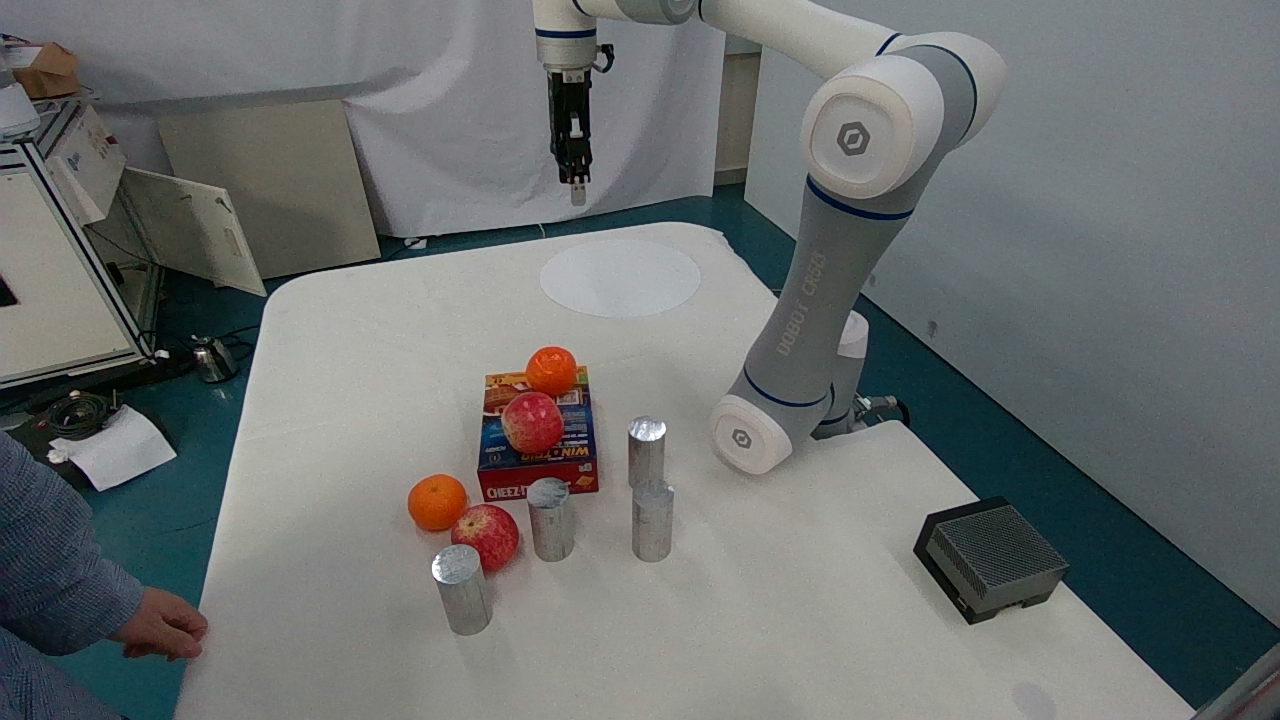apple: (498, 380, 570, 462), (440, 508, 530, 568)
metal rod: (420, 537, 506, 643), (516, 465, 585, 573), (618, 480, 686, 568), (620, 403, 689, 481)
orange: (400, 465, 470, 536), (522, 334, 583, 397)
